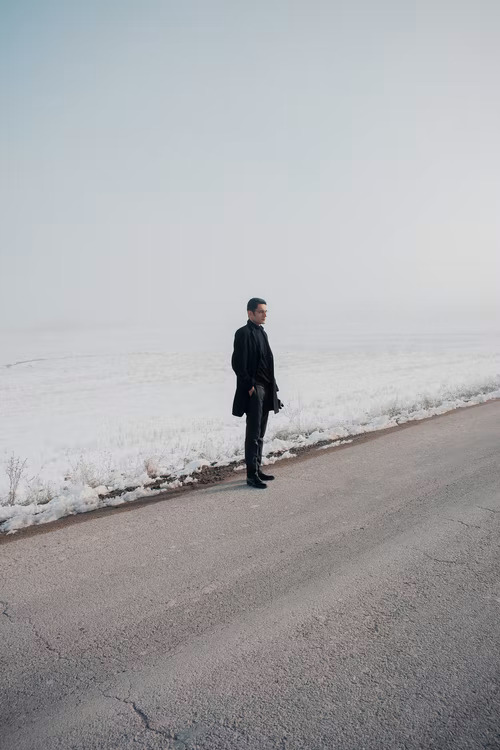person: (231, 298, 281, 489)
